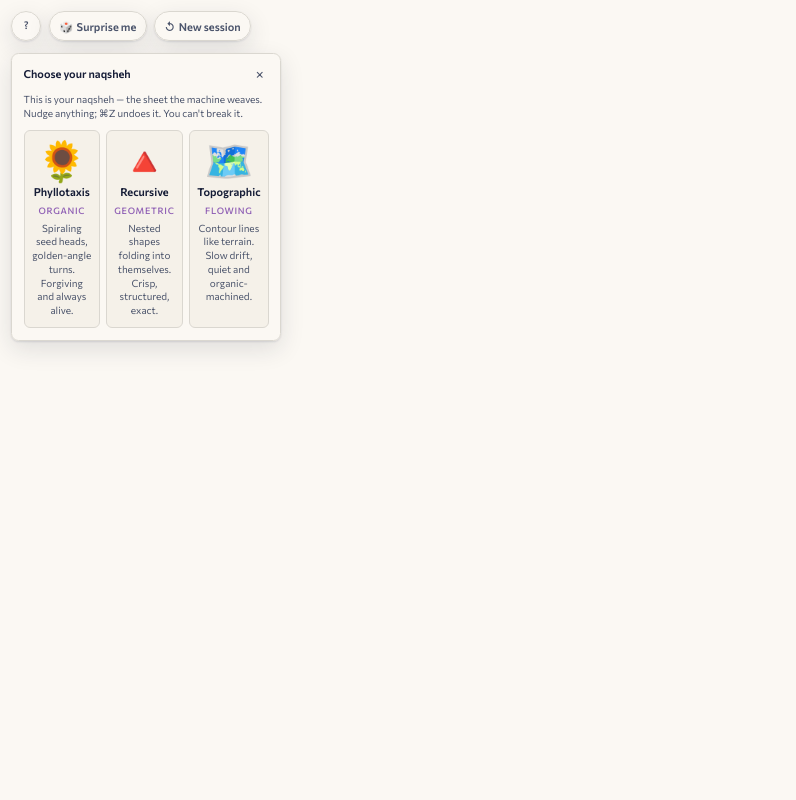
Test case: GuestOnboarding — S6 modulation nudge (D17a/D22) › does not visually show while the chooser is still OPEN, even past the threshold (avoids front-loading, D17); appears once dismissed
Check: the element with test id "guest-onboarding-chooser" is shown, box [11, 52, 281, 341]
Step 1. Click the button named "skip starter chooser" → (260, 74), box [248, 63, 271, 85]
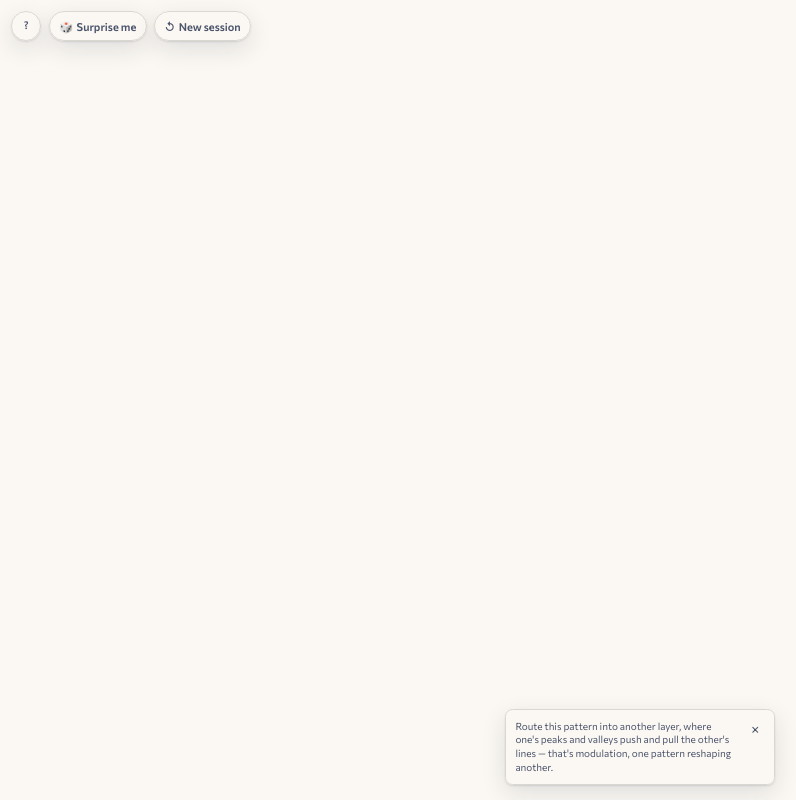
Check: the element with test id "guest-modulation-nudge" is shown, box [505, 709, 775, 785]
